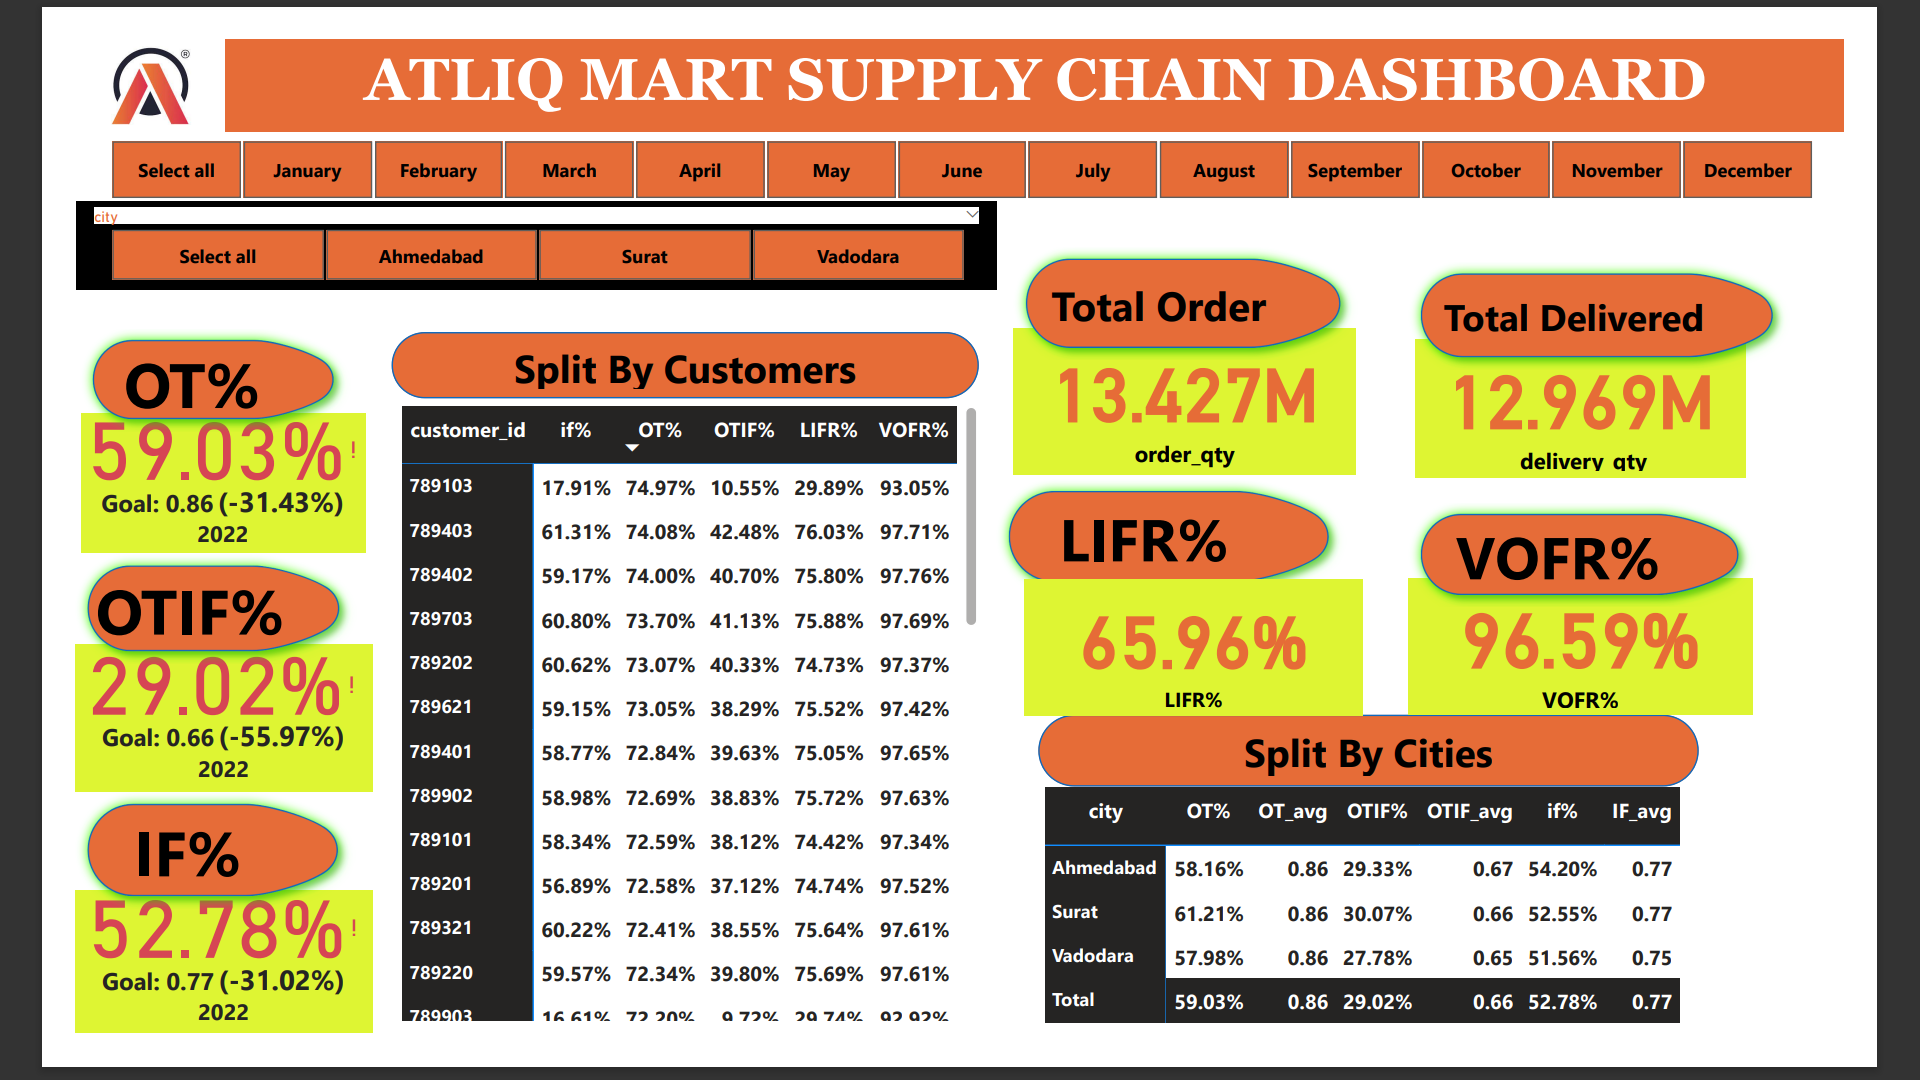

This screenshot's page, from the dashboard's own definition file:
{"tool":"powerbi","page":{"name":"Page 2","canvas":[1280,720],"ordinal":0},"visuals":[{"type":"image","box":[9.6,0,89.1,67.2],"z":0,"group":"g5"},{"type":"card","fields":{"Values":["Sum(fact_order_lines.order_qty)"]},"box":[679.4,208.7,248.1,105.6],"z":0,"group":"g11"},{"type":"card","fields":{"Values":["Sum(fact_order_lines.delivery_qty)"]},"box":[969.6,216.7,239.6,100.3],"z":0,"group":"g13"},{"type":"pivotTable","fields":{"Rows":["dim_targets_orders.customer_id"],"Values":["fact_orders_aggregate.if%","fact_orders_aggregate.OT%","fact_orders_aggregate.OTIF%","fact_order_lines.LIFR%","fact_order_lines.VOFR%"]},"box":[232.4,261.2,425.5,454.3],"z":0,"group":"g4"},{"type":"kpi","fields":{"Goal":["dim_targets_orders.OT_avg"],"TrendLine":["fact_order_lines.YEAR"],"Indicator":["fact_orders_aggregate.OT%"]},"box":[4.1,270.5,205.7,101],"z":0,"group":"g6"},{"type":"card","fields":{"Values":["fact_order_lines.VOFR%"]},"box":[964.9,390.1,249.4,98.5],"z":0,"group":"g9"},{"type":"card","fields":{"Values":["fact_order_lines.LIFR%"]},"box":[687.2,391.9,244.6,99.4],"z":0,"group":"g7"},{"type":"kpi","fields":{"Goal":["dim_targets_orders.OTIF_avg"],"TrendLine":["fact_order_lines.YEAR"],"Indicator":["fact_orders_aggregate.OTIF%"]},"box":[0,437.6,215.3,106.9],"z":0,"group":"g2"},{"type":"pivotTable","fields":{"Rows":["dim_customers.city"],"Values":["fact_orders_aggregate.OT%","dim_targets_orders.OT_avg","fact_orders_aggregate.OTIF%","dim_targets_orders.OTIF_avg","fact_orders_aggregate.if%","dim_targets_orders.IF_avg"]},"box":[697.7,536.8,477.6,184.2],"z":0,"group":"g3"},{"type":"kpi","fields":{"Indicator":["fact_orders_aggregate.if%"],"Goal":["dim_targets_orders.IF_avg"],"TrendLine":["fact_order_lines.YEAR"]},"box":[0,615.6,215.5,103.6],"z":0,"group":"g1"},{"type":"textbox","box":[108.3,0,1172.2,67.2],"z":1000,"group":"g5"},{"type":"shape","box":[679.4,149.6,260.8,81.6],"z":1000,"group":"g11"},{"type":"shape","box":[964.9,160.6,286.9,77.6],"z":1000,"group":"g13"},{"type":"shape","box":[4.1,208.6,205.7,75.1],"z":1000,"group":"g6"},{"type":"shape","box":[229.3,212.2,425.5,48],"z":1000,"group":"g4"},{"type":"shape","box":[964.9,334.9,262.2,76.2],"z":1000,"group":"g9"},{"type":"shape","box":[0,372,215.3,79.5],"z":1000,"group":"g2"},{"type":"shape","box":[697.7,489,477.6,51.8],"z":1000,"group":"g3"},{"type":"group","id":"g1","title":"Group 1","box":[0,544.9,215.5,174.3],"z":1000},{"type":"shape","box":[0,544.9,215.5,83.7],"z":1000,"group":"g1"},{"type":"group","id":"g2","title":"Group 1","box":[0,372,215.5,172.9],"z":2000},{"type":"group","id":"g3","title":"Group 2","box":[697.7,489,477.6,232],"z":2000,"group":"g4"},{"type":"group","id":"g4","title":"Group 3","box":[229.3,212.2,946,508.8],"z":3000},{"type":"group","id":"g5","title":"Group 4","box":[9.6,0,1271,67.2],"z":4000},{"type":"shape","box":[667,318.4,264.9,83.6],"z":5000,"group":"g8"},{"type":"group","id":"g6","title":"Group 5","box":[4.1,208.6,205.9,163.3],"z":6000},{"type":"group","id":"g7","title":"Group 6","box":[687.2,391.9,244.6,99.4],"z":6001,"group":"g8"},{"type":"group","id":"g8","title":"Group 7","box":[667,318.4,264.9,172.9],"z":6002},{"type":"group","id":"g9","title":"Group 5","box":[964.9,334.9,262.2,153.7],"z":6003},{"type":"slicer","fields":{"Values":["fact_order_lines.agreed_delivery_date.Variation.Date Hierarchy.Month"]},"box":[1.4,67.3,1279.2,54.9],"z":6004},{"type":"group","id":"g10","title":"Group 5","box":[679.4,149.6,260.8,164.7],"z":6005},{"type":"group","id":"g11","title":"Group 8","box":[679.4,149.6,260.8,164.7],"z":6006,"group":"g10"},{"type":"group","id":"g12","title":"Group 5","box":[964.9,160.6,286.9,156.5],"z":6006},{"type":"group","id":"g13","title":"Group 8","box":[964.9,160.6,286.9,156.4],"z":6006,"group":"g12"},{"type":"slicer","fields":{"Values":["dim_customers.city"]},"box":[1.4,116.7,665.7,64.5],"z":6007}]}

Visuals, with their boxes in screenshot pixels (x1, y1, x2, y2), scaled from the page's 1280x720 canvas onto the 1920x1080 screenshot:
image: bbox=(14, 0, 148, 101)
card - Sum(fact_order_lines.order_qty): bbox=(1019, 313, 1391, 471)
card - Sum(fact_order_lines.delivery_qty): bbox=(1454, 325, 1814, 476)
pivotTable - dim_targets_orders.customer_id x fact_orders_aggregate.if%: bbox=(349, 392, 987, 1073)
kpi - dim_targets_orders.OT_avg x fact_order_lines.YEAR: bbox=(6, 406, 315, 557)
card - fact_order_lines.VOFR%: bbox=(1447, 585, 1821, 733)
card - fact_order_lines.LIFR%: bbox=(1031, 588, 1398, 737)
kpi - dim_targets_orders.OTIF_avg x fact_order_lines.YEAR: bbox=(0, 656, 323, 817)
pivotTable - dim_customers.city x fact_orders_aggregate.OT%: bbox=(1047, 805, 1763, 1079)
kpi - fact_orders_aggregate.if% x dim_targets_orders.IF_avg: bbox=(0, 923, 323, 1079)
textbox: bbox=(162, 0, 1919, 101)
shape: bbox=(1019, 224, 1410, 347)
shape: bbox=(1447, 241, 1878, 357)
shape: bbox=(6, 313, 315, 426)
shape: bbox=(344, 318, 982, 390)
shape: bbox=(1447, 502, 1841, 617)
shape: bbox=(0, 558, 323, 677)
shape: bbox=(1047, 734, 1763, 811)
"Group 1" group: bbox=(0, 817, 323, 1079)
shape: bbox=(0, 817, 323, 943)
"Group 1" group: bbox=(0, 558, 323, 817)
"Group 2" group: bbox=(1047, 734, 1763, 1079)
"Group 3" group: bbox=(344, 318, 1763, 1079)
"Group 4" group: bbox=(14, 0, 1919, 101)
shape: bbox=(1000, 478, 1398, 603)
"Group 5" group: bbox=(6, 313, 315, 558)
"Group 6" group: bbox=(1031, 588, 1398, 737)
"Group 7" group: bbox=(1000, 478, 1398, 737)
"Group 5" group: bbox=(1447, 502, 1841, 733)
slicer - fact_order_lines.agreed_delivery_date.Variation.Date Hierarchy.Month: bbox=(2, 101, 1919, 183)
"Group 5" group: bbox=(1019, 224, 1410, 471)
"Group 8" group: bbox=(1019, 224, 1410, 471)
"Group 5" group: bbox=(1447, 241, 1878, 476)
"Group 8" group: bbox=(1447, 241, 1878, 476)
slicer - dim_customers.city: bbox=(2, 175, 1001, 272)
